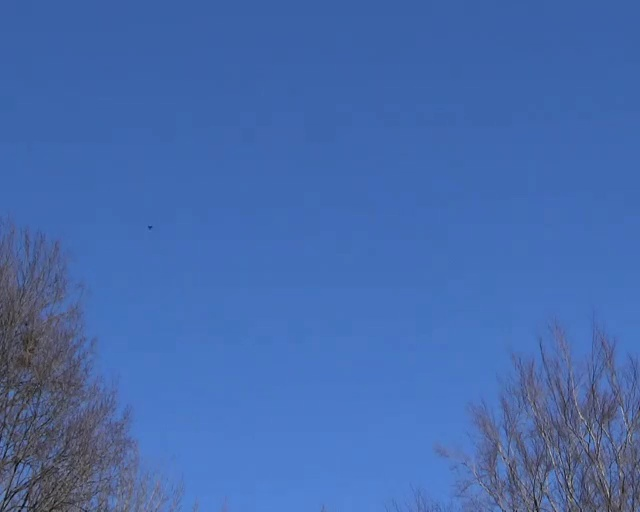BIRD: (147, 224, 153, 230)
